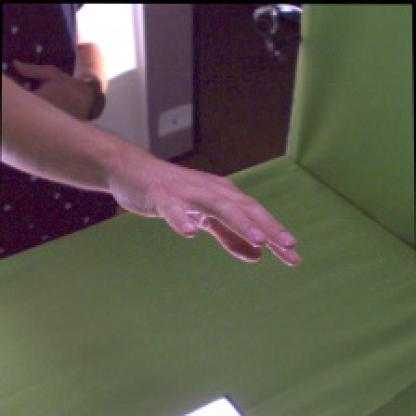Hand: (108, 150, 302, 268)
